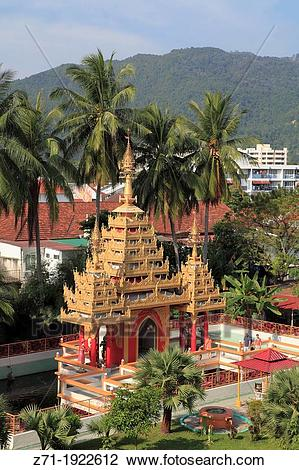Buddhist Temple: (70, 155, 214, 390)
